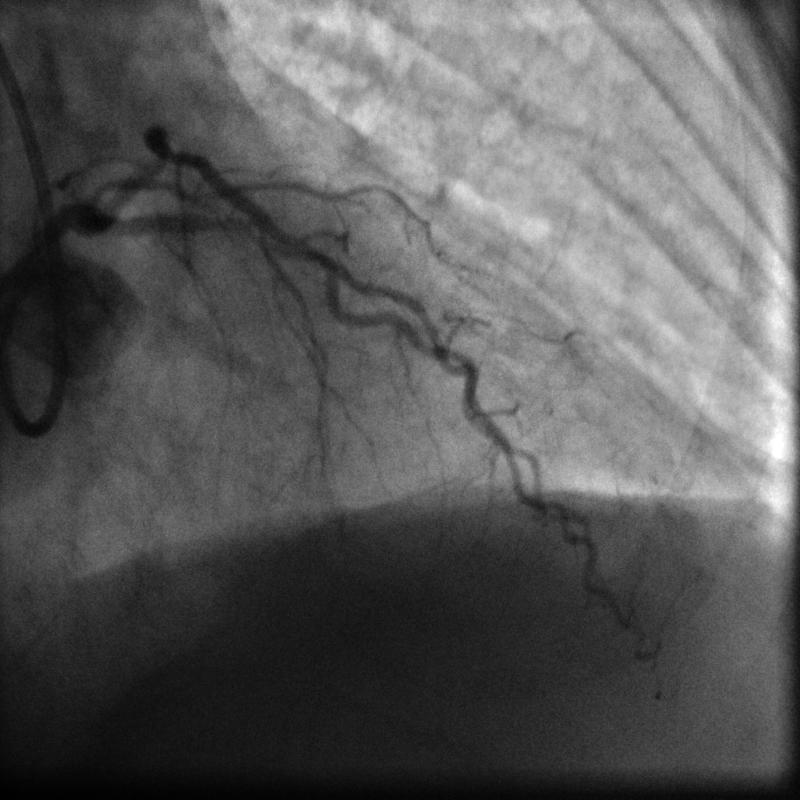Stenosis: (213, 207, 264, 238)
